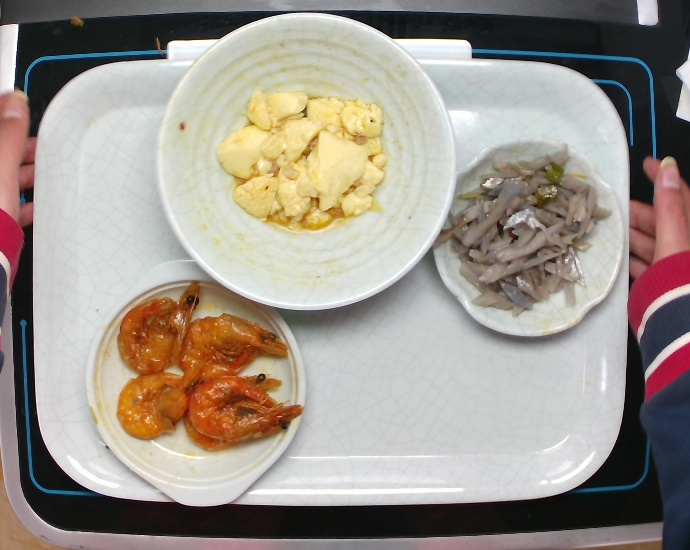JYsf-Ao_Yuan_Wan: (429, 139, 626, 336)
JYsf-Shuang_Er_Pan: (84, 264, 308, 504)
JYsf-Xiao_Tang_Wan: (157, 9, 459, 309)
